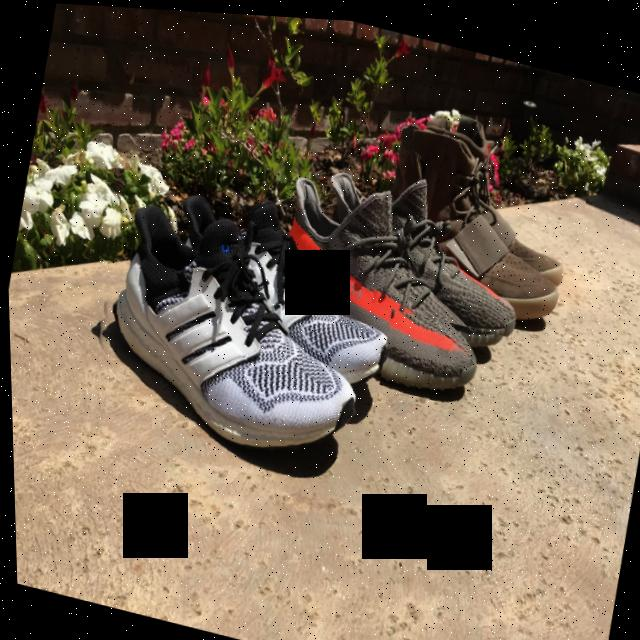shoe: (63, 148, 411, 500), (245, 134, 536, 413), (353, 80, 601, 347)
